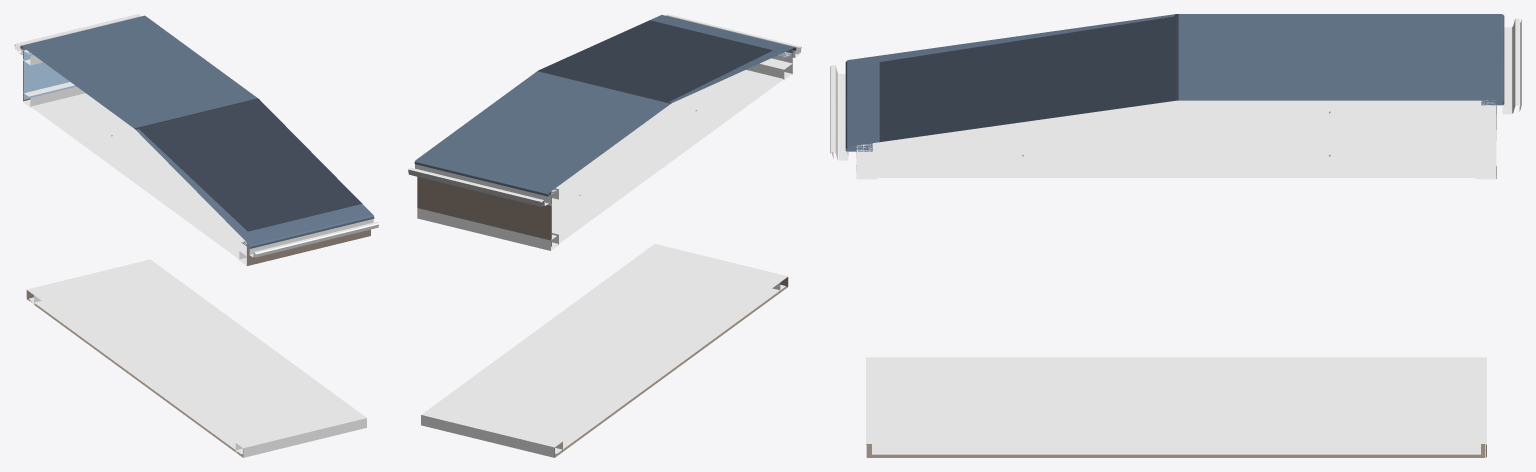
Rendered from si_res_body_roof_sloped.dae.
3 views of the same model, side by side, from view 1: azimuth 30°, elevation 25°; view 2: azimuth 150°, elevation 25°; view 3: azimuth 270°, elevation 25° (orthographic). The views are drawn at different scales.
Parts seen in each view (by area): view 1: si_res_body_roof_sloped_a300, si_res_body_roof_sloped_a70, si_res_body_roof_sloped_a10; view 2: si_res_body_roof_sloped_a300, si_res_body_roof_sloped_a70, si_res_body_roof_sloped_a10; view 3: si_res_body_roof_sloped_a300, si_res_body_roof_sloped_a70, si_res_body_roof_sloped_a10.
Boxes of the visible parts, x1=… form: si_res_body_roof_sloped_a300: x1=14, y1=14, x2=379, y2=457; si_res_body_roof_sloped_a70: x1=14, y1=14, x2=378, y2=457; si_res_body_roof_sloped_a10: x1=23, y1=47, x2=370, y2=457; si_res_body_roof_sloped_a300: x1=408, y1=14, x2=801, y2=456; si_res_body_roof_sloped_a70: x1=408, y1=47, x2=801, y2=457; si_res_body_roof_sloped_a10: x1=417, y1=20, x2=792, y2=457; si_res_body_roof_sloped_a300: x1=830, y1=14, x2=1520, y2=457; si_res_body_roof_sloped_a70: x1=831, y1=19, x2=1521, y2=457; si_res_body_roof_sloped_a10: x1=867, y1=14, x2=1496, y2=457.
Bounding box in the file's own units: 2 × 6.75 × 3.85.
